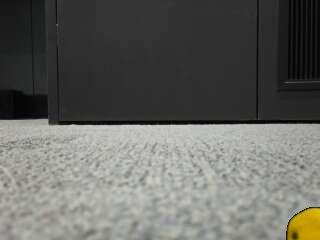lemon: (287, 208, 320, 240)
